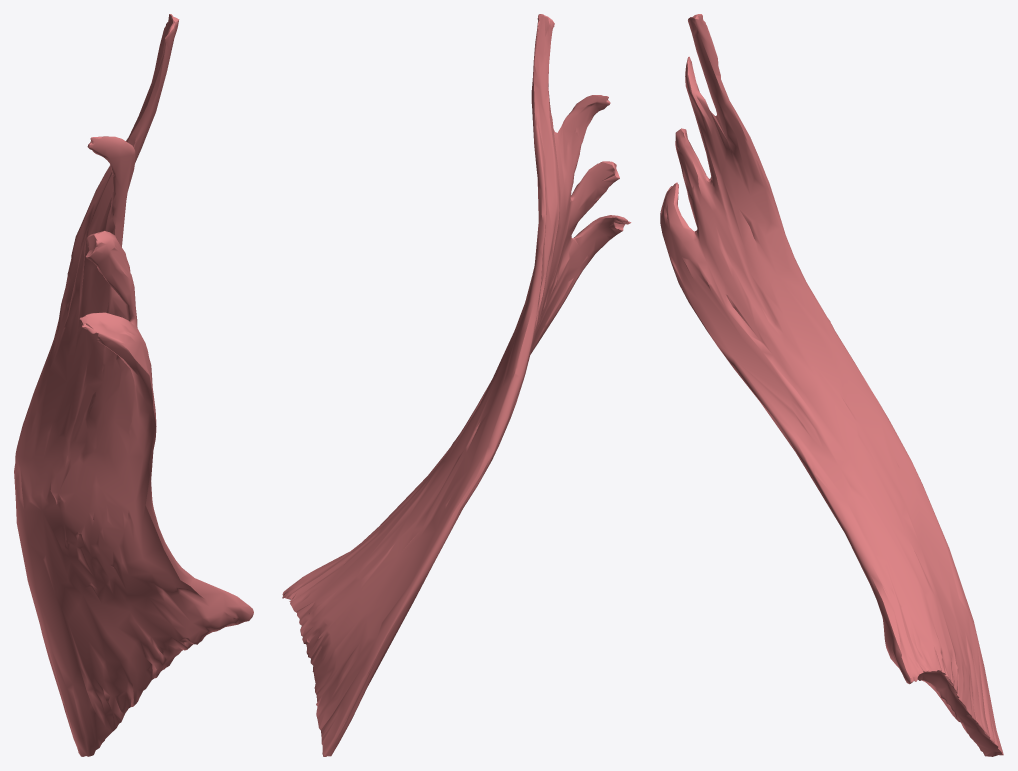
3 views of the same model, side by side, from view 1: azimuth 30°, elevation 25°; view 2: azimuth 150°, elevation 25°; view 3: azimuth 270°, elevation 25° (orthographic). The views are drawn at different scales.
Visible parts, largest first — view 1: FJ1532M; view 2: FJ1532M; view 3: FJ1532M.
Boxes of the visible parts, left/top/right/bottom form: FJ1532M: left=14, top=14, right=253, bottom=756; FJ1532M: left=282, top=14, right=631, bottom=756; FJ1532M: left=660, top=14, right=1003, bottom=756.
Size of the model in its own units: 0.0597 by 0.1584 by 0.07.
